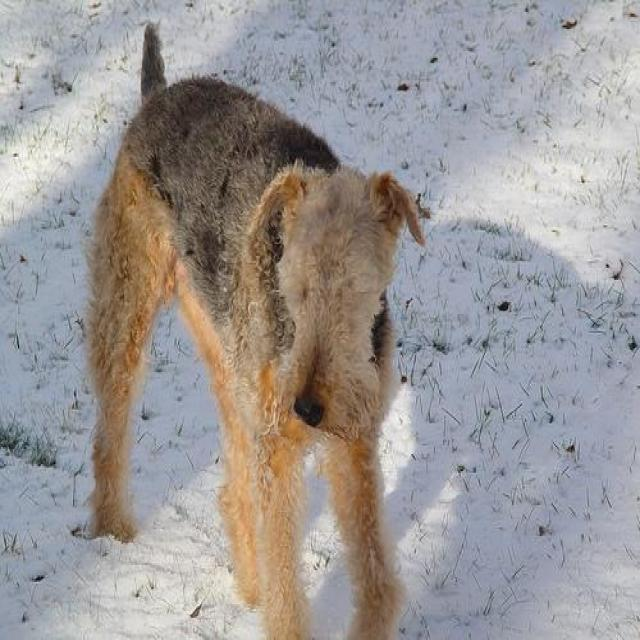airedale: (91, 22, 426, 638)
